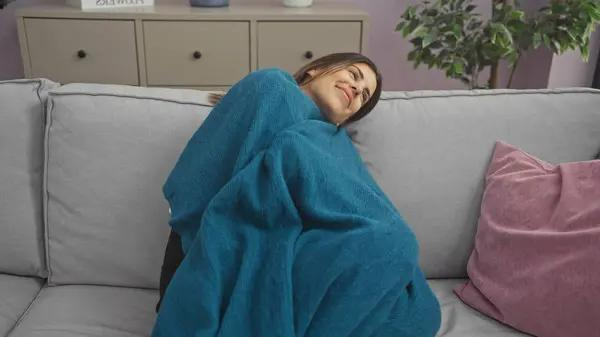blanket: (150, 66, 445, 337)
